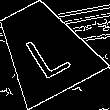L_NW: (16, 20, 72, 79)
